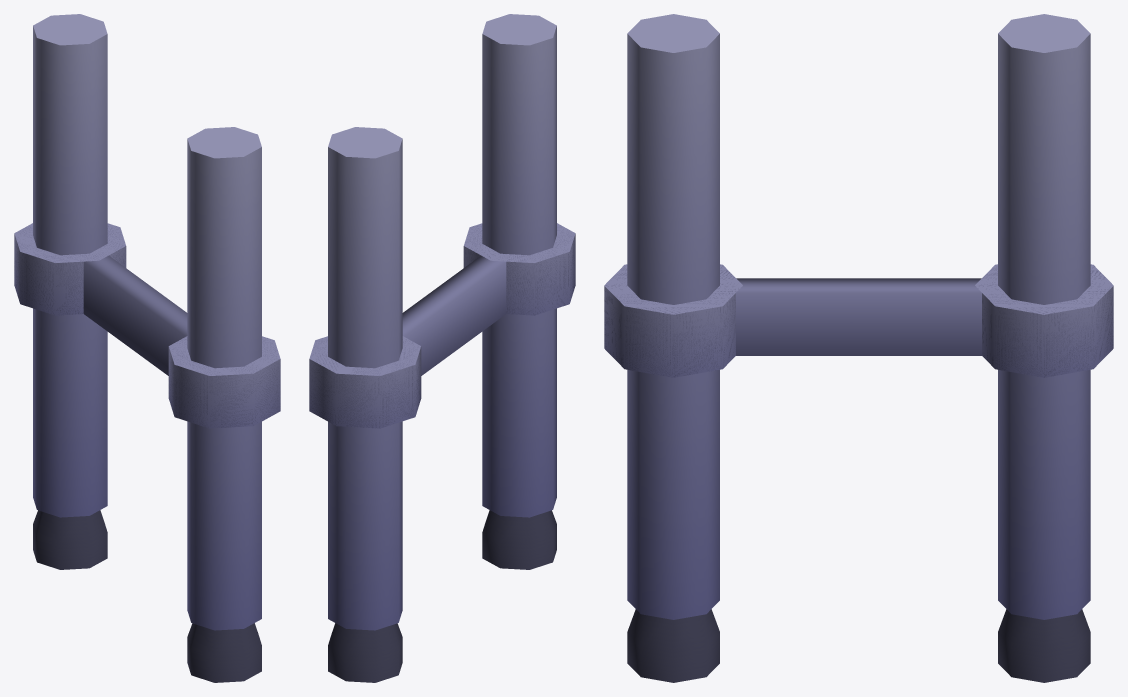
File: kenney-factory-structure-high.glb
3 renders of one model, left to right at view 1: azimuth 30°, elevation 25°; view 2: azimuth 150°, elevation 25°; view 3: azimuth 270°, elevation 25°, orthographic. The views are drawn at different scales.
Parts seen in each view (by area): view 1: structure-high; view 2: structure-high; view 3: structure-high.
Part boxes in pixels (<box>): structure-high: <box>14,14,280,682</box>; structure-high: <box>309,14,575,682</box>; structure-high: <box>604,14,1113,682</box>.
Size of the model in its own units: 0.45 by 2.25 by 1.65.
1 material, 1 textured.
